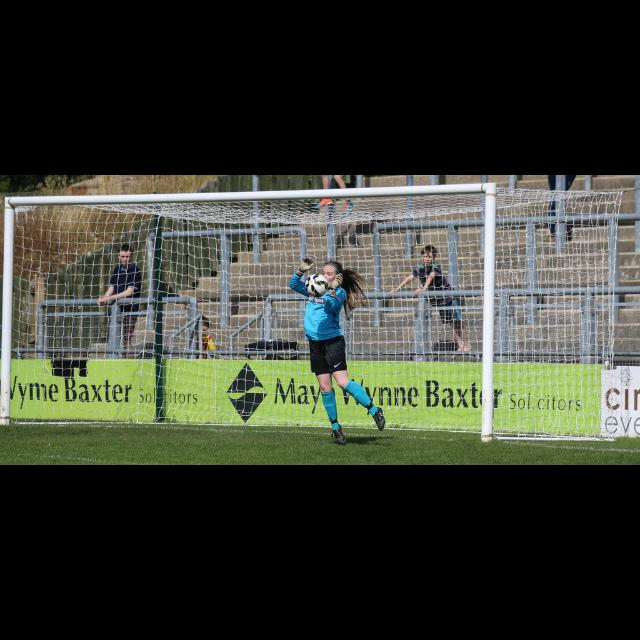Football: (305, 272, 327, 296)
